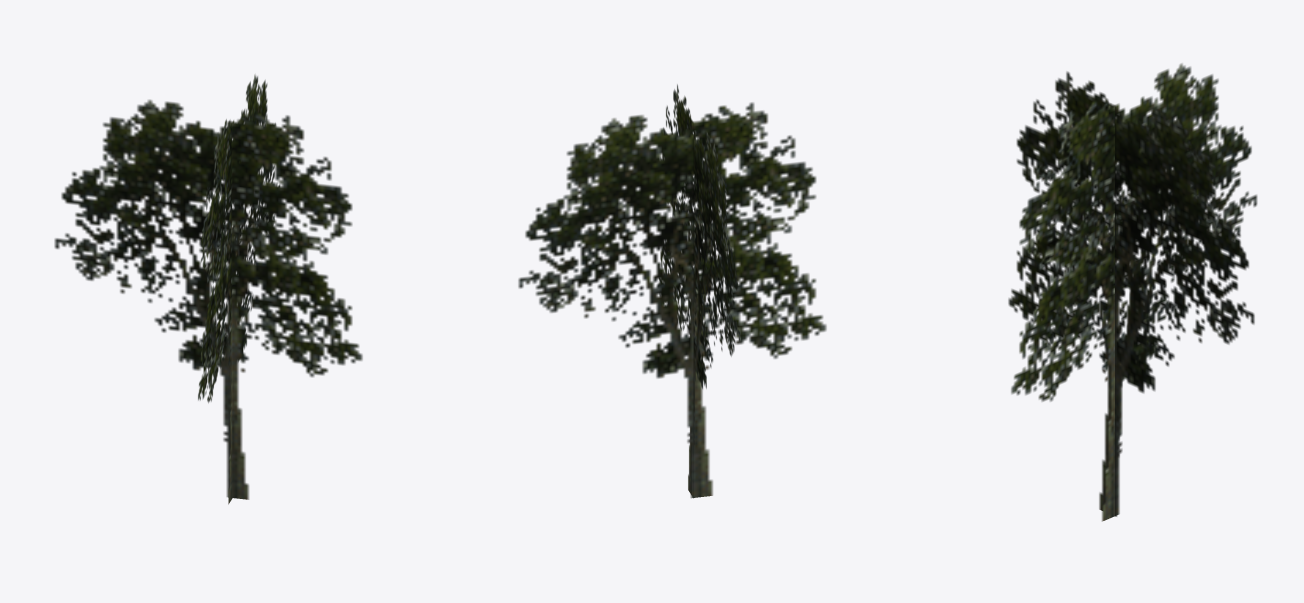
Rendered from tree079.glb.
3 views of the same model, side by side, from view 1: azimuth 30°, elevation 25°; view 2: azimuth 150°, elevation 25°; view 3: azimuth 270°, elevation 25° (orthographic). The views are drawn at different scales.
Visible parts, largest first — view 1: tree079; view 2: tree079; view 3: tree079.
Part boxes in pixels (x1,y1,x2,y2): tree079: [54, 74, 362, 504]; tree079: [518, 84, 826, 498]; tree079: [1008, 63, 1257, 521].
Bounding box in the file's own units: 2.41 × 3.35 × 2.41.
1 material, 1 textured.
